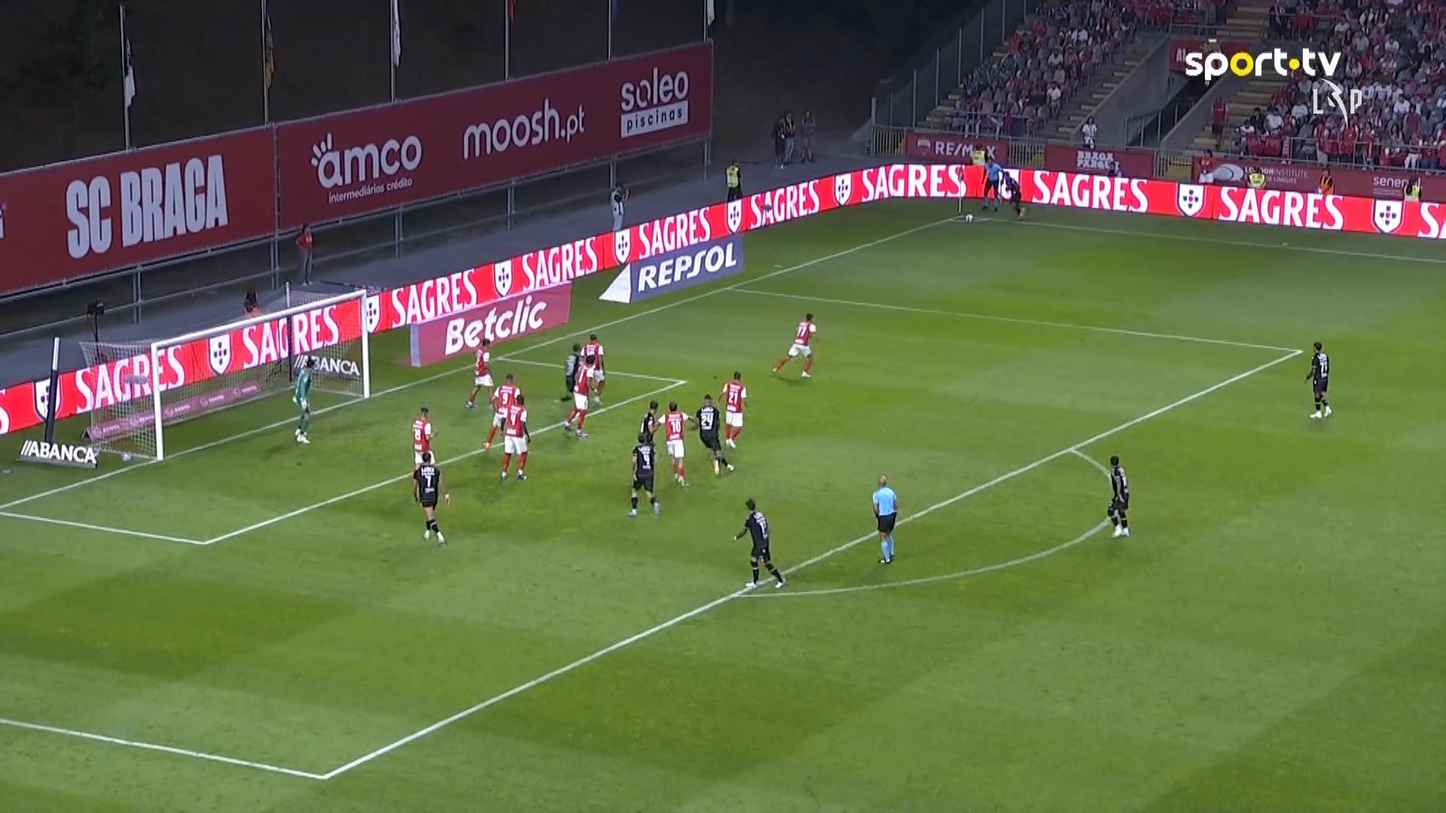ball: (964, 212, 973, 223)
goalkeeper: (291, 354, 317, 443)
player: (732, 497, 786, 589), (410, 449, 450, 546), (656, 400, 694, 486), (695, 393, 734, 476), (770, 312, 818, 378), (627, 431, 661, 519), (482, 373, 521, 449), (498, 391, 530, 480), (718, 370, 748, 449), (563, 359, 593, 437), (464, 336, 496, 409), (1304, 340, 1332, 418), (1106, 455, 1130, 537), (581, 333, 606, 404), (411, 406, 438, 467), (1000, 169, 1025, 219), (1000, 171, 1023, 223), (981, 157, 1002, 211), (562, 341, 582, 397), (639, 399, 660, 446)
referee: (871, 474, 898, 564), (974, 150, 1007, 213)
